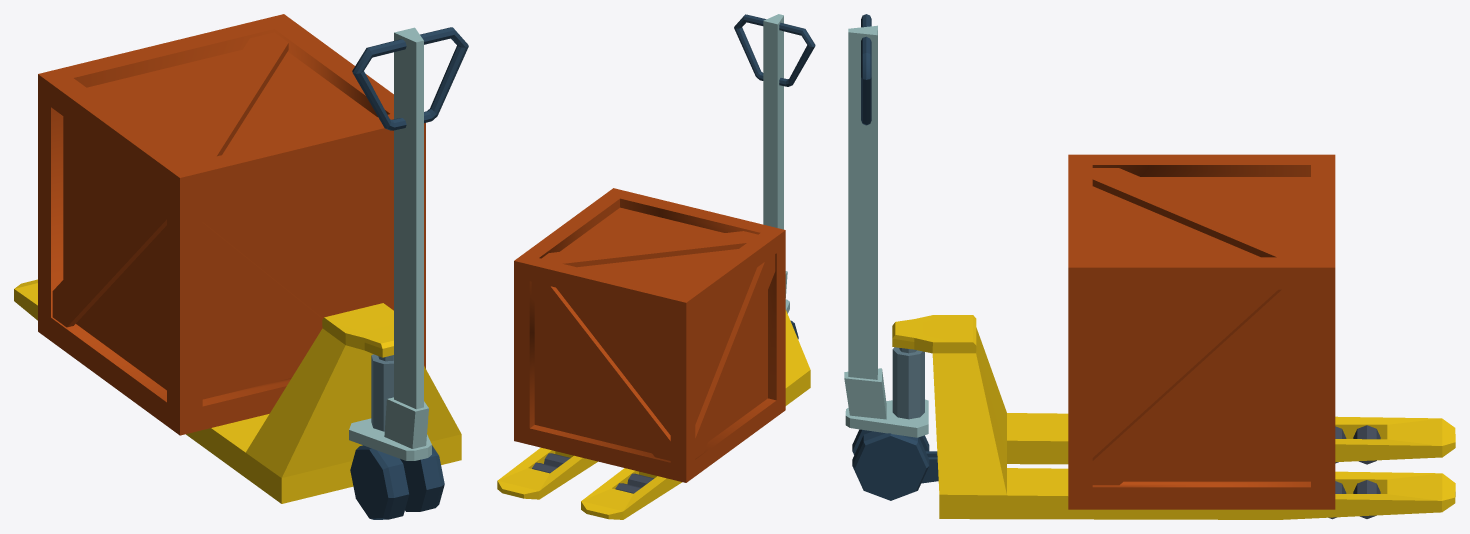
Rendered from Prop_Pallet_Truck_WB_A.fbx.
3 views of the same model, side by side, from view 1: azimuth 30°, elevation 25°; view 2: azimuth 150°, elevation 25°; view 3: azimuth 270°, elevation 25° (orthographic). The views are drawn at different scales.
Visible parts, largest first — view 1: Prop_Pallet_Truck_WB_A; view 2: Prop_Pallet_Truck_WB_A; view 3: Prop_Pallet_Truck_WB_A.
Part boxes in pixels (bbox=[...]): Prop_Pallet_Truck_WB_A: bbox=[14, 14, 468, 519]; Prop_Pallet_Truck_WB_A: bbox=[497, 14, 815, 519]; Prop_Pallet_Truck_WB_A: bbox=[844, 14, 1455, 519].
Size of the model in its own units: 153 by 66.92 by 127.
